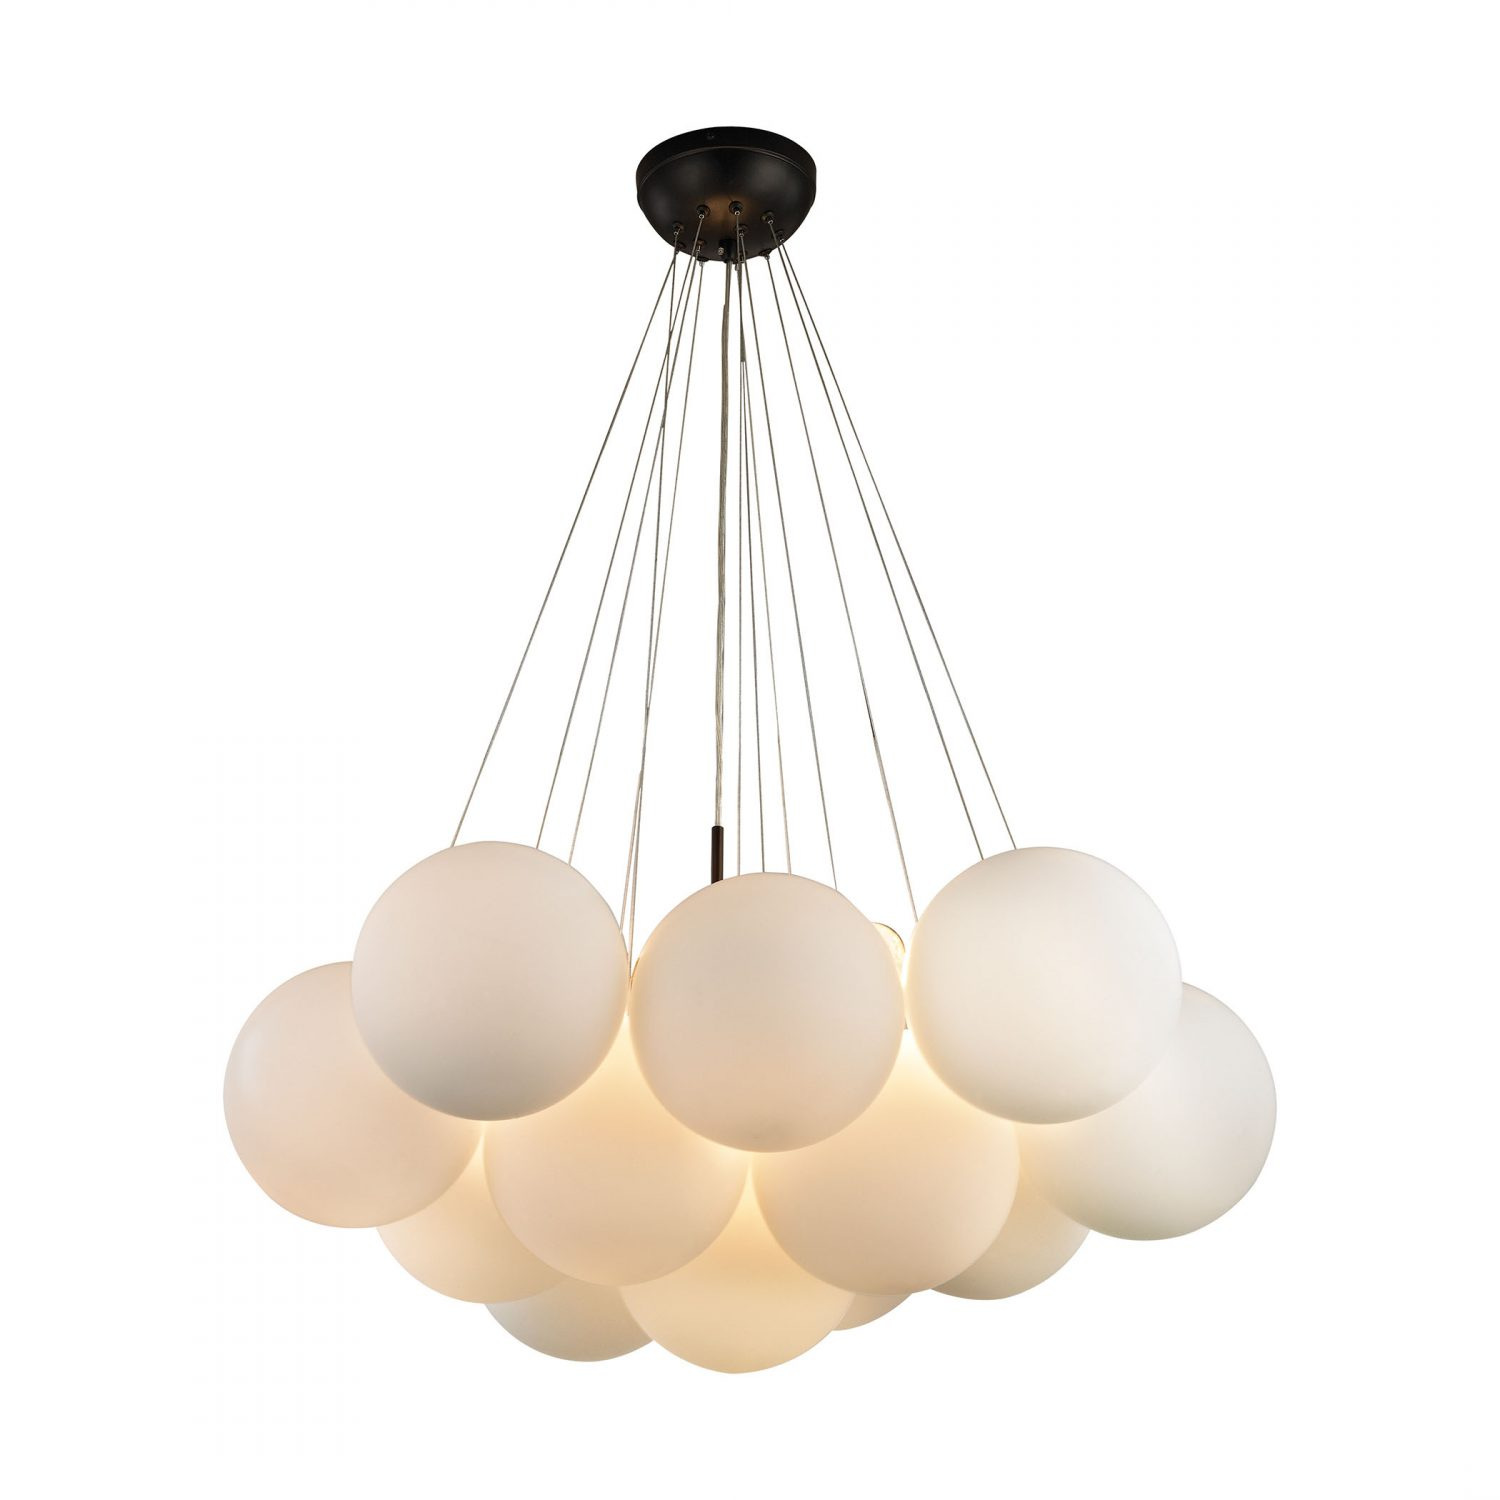chandelier: (207, 117, 1310, 1427)
